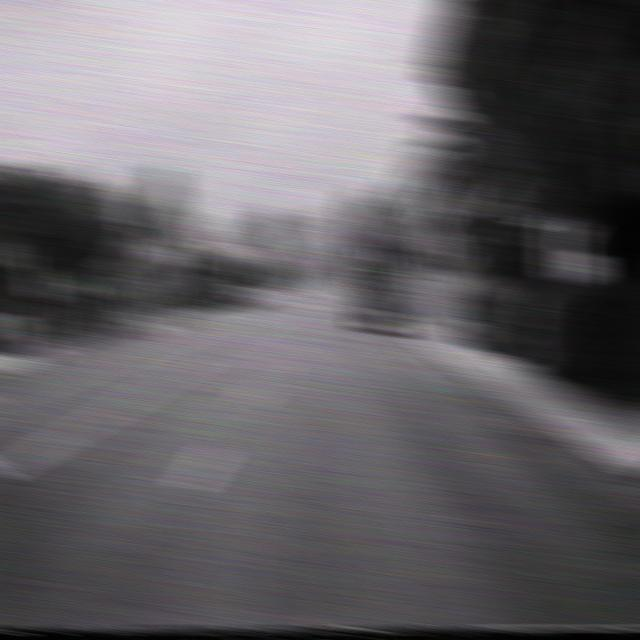pedestrianCrossing: (414, 193, 450, 235)
